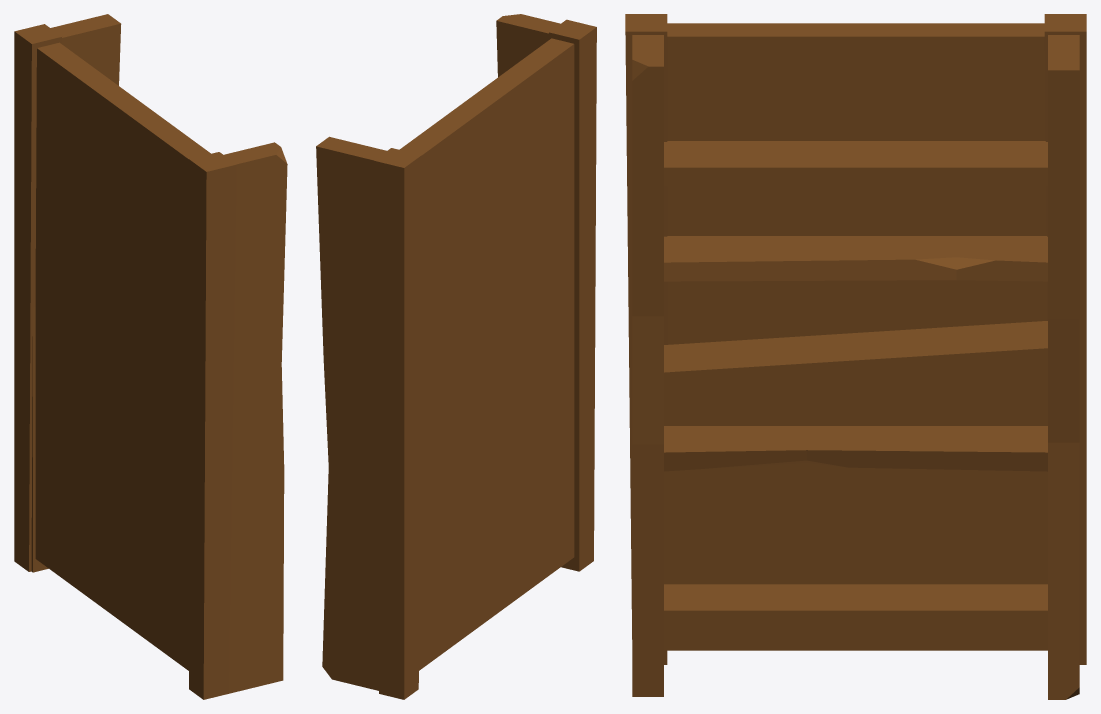
Rendered from BookShelf.002.fbx.
3 renders of one model, left to right at view 1: azimuth 30°, elevation 25°; view 2: azimuth 150°, elevation 25°; view 3: azimuth 270°, elevation 25°, orthographic. The views are drawn at different scales.
Parts seen in each view (by area): view 1: WoodenShelf.002; view 2: WoodenShelf.002; view 3: WoodenShelf.002.
Boxes of the visible parts, x1,y1,x2,y2 form: WoodenShelf.002: [14, 14, 287, 699]; WoodenShelf.002: [316, 14, 596, 699]; WoodenShelf.002: [625, 14, 1086, 699].
Bounding box in the file's own units: 0.36 × 2.01 × 1.32.
